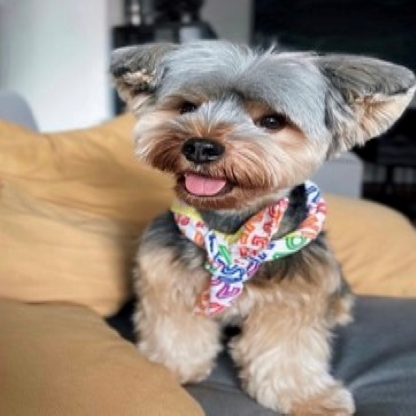yorkshire: (104, 35, 416, 403)
